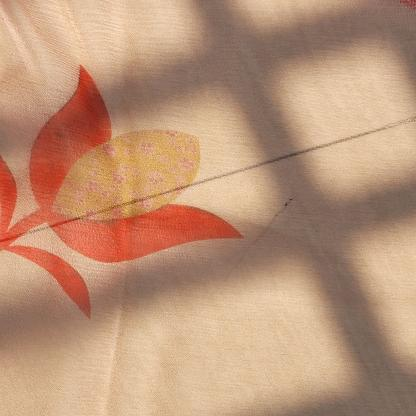spot: (228, 188, 299, 278)
